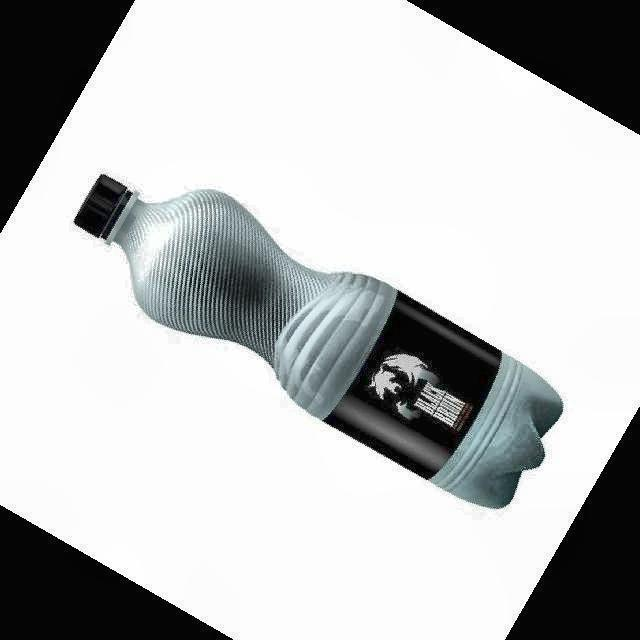plastic: (75, 176, 562, 508)
